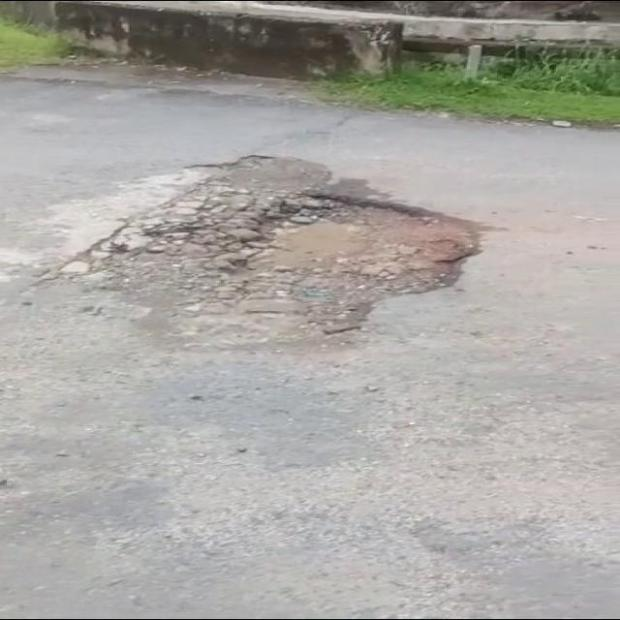lubang: (97, 156, 479, 336)
